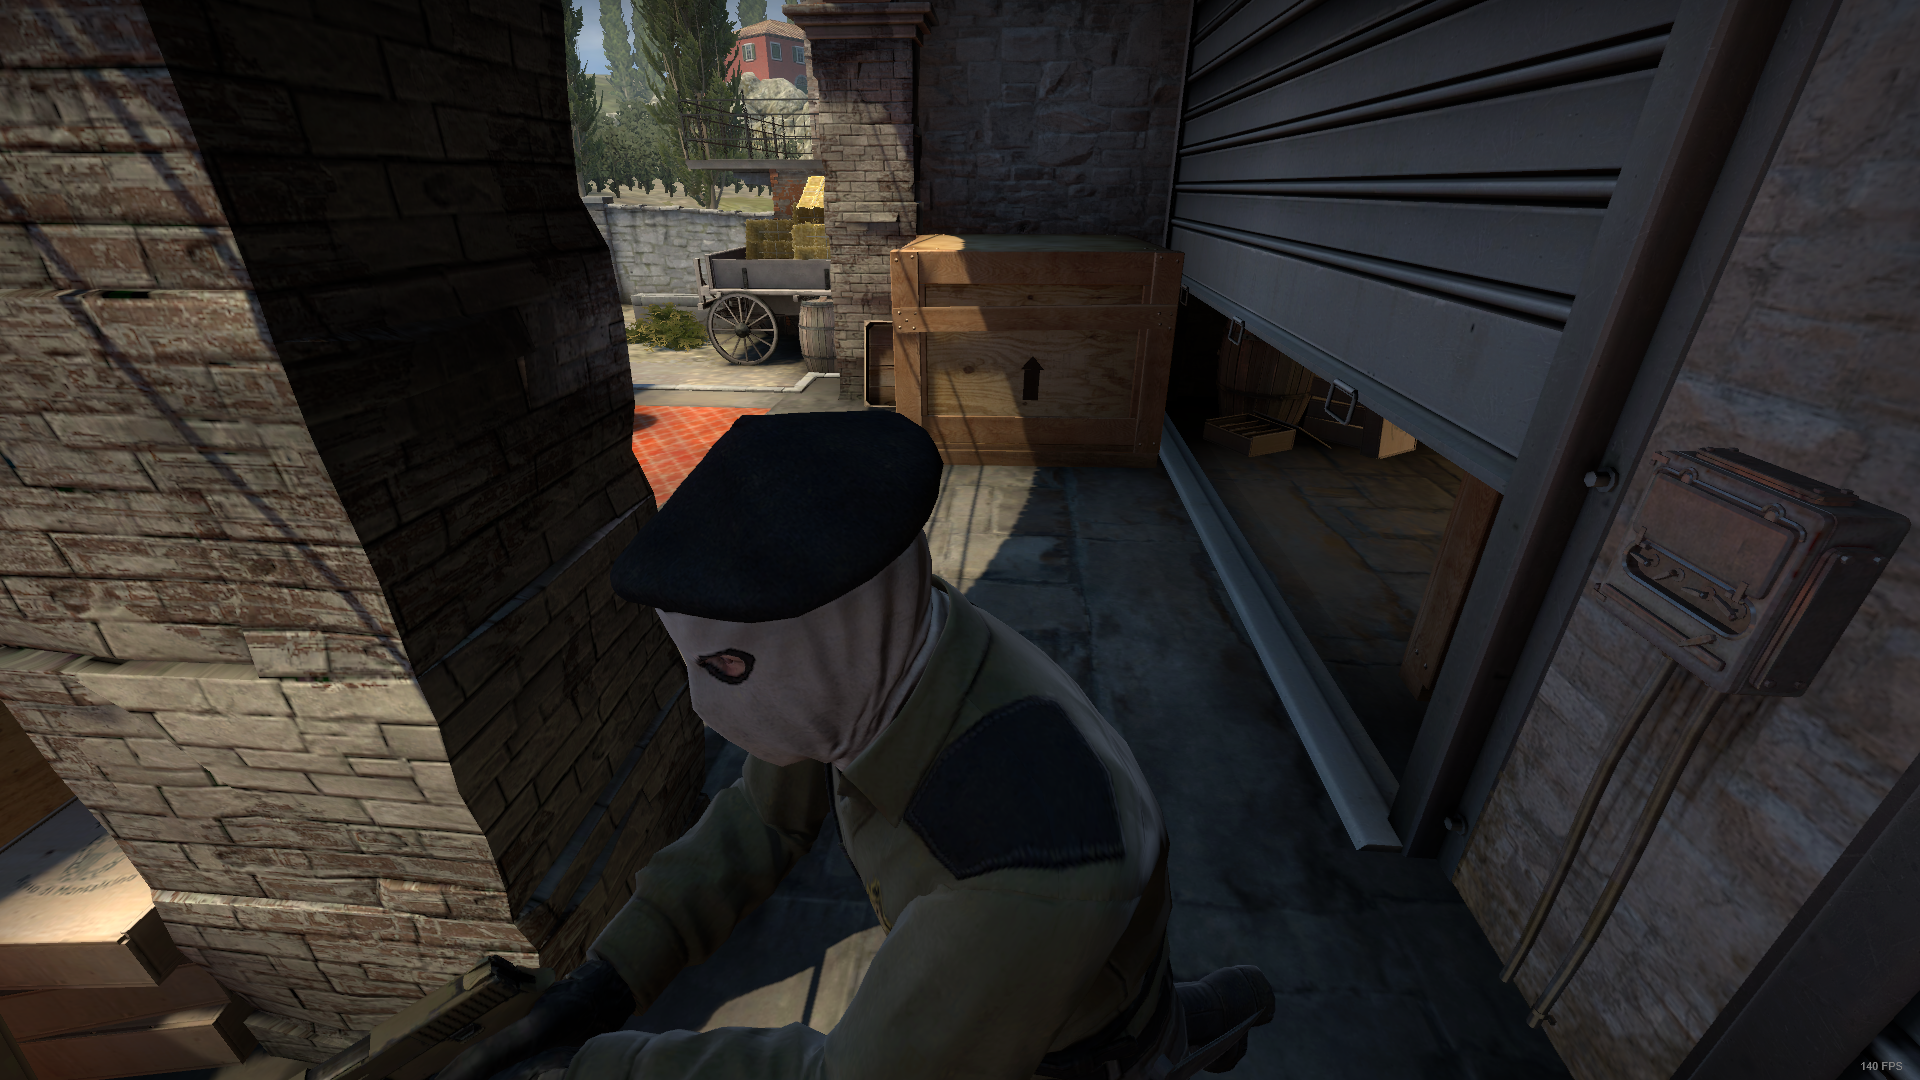t: (455, 411, 1276, 1080)
